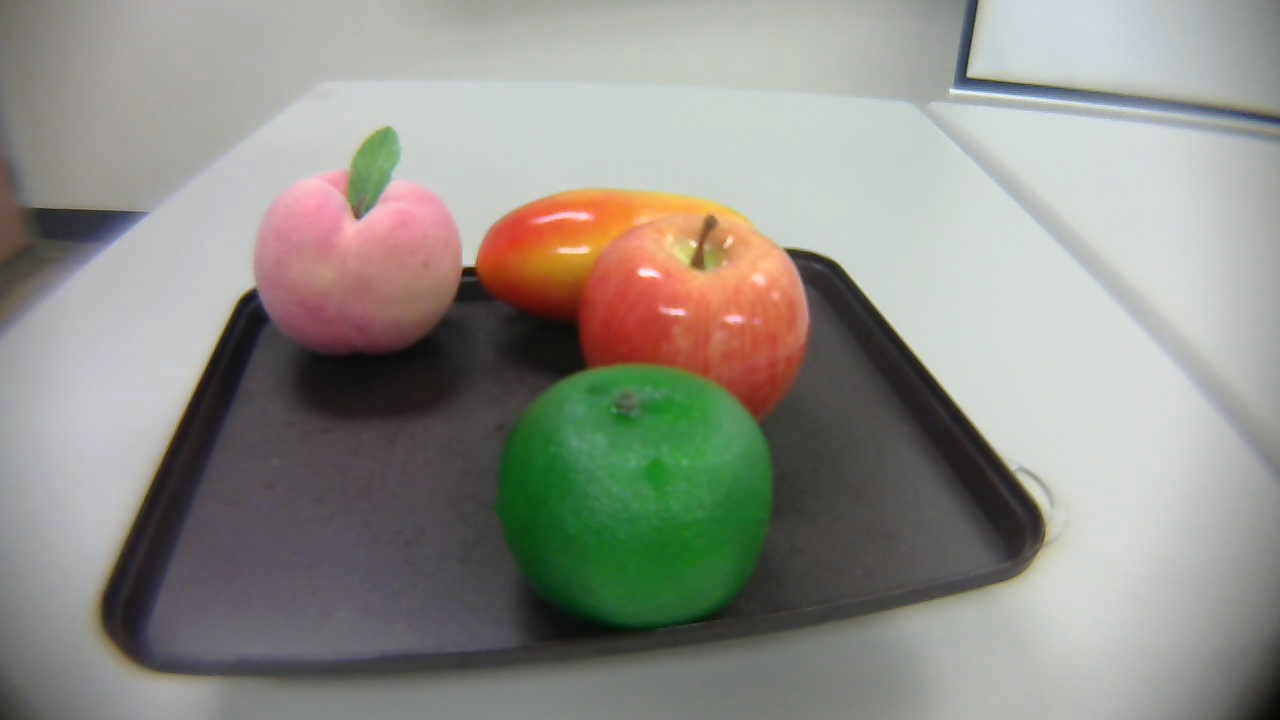green orange: (500, 359, 787, 629)
peach: (250, 121, 465, 354)
red apple: (575, 208, 808, 448)
red mango: (460, 178, 757, 336)
